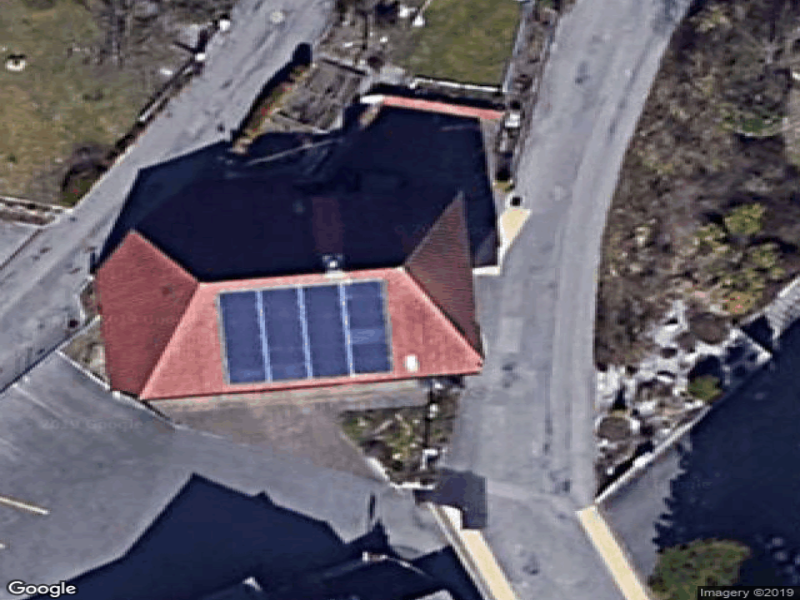pv: (218, 281, 395, 384)
